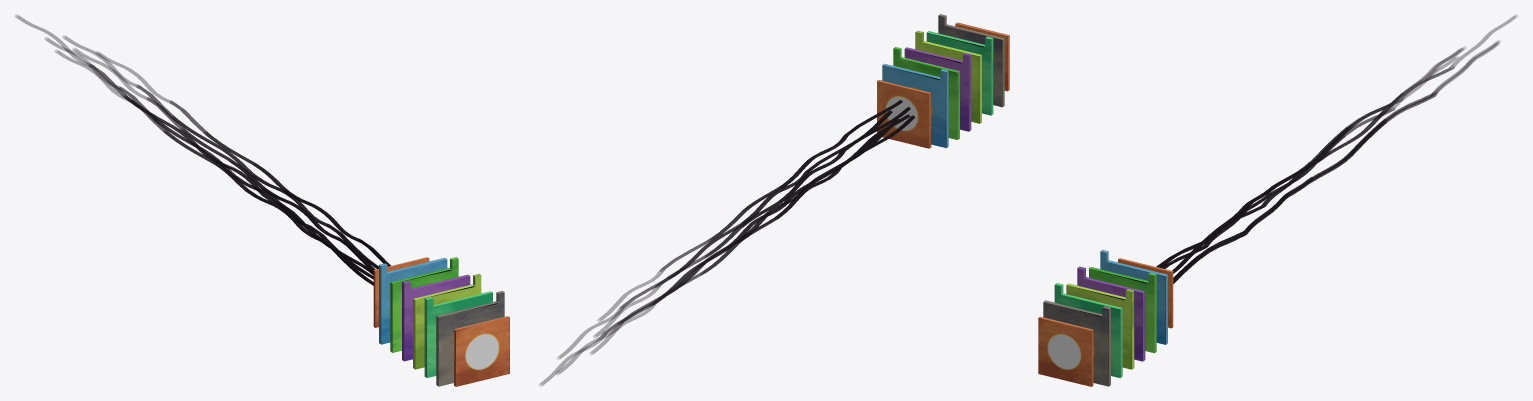
The model's file is contactcenter.obj.
The picture shows the model from 3 angles, left to right: view 1: azimuth 30°, elevation 25°; view 2: azimuth 150°, elevation 25°; view 3: azimuth 330°, elevation 25°; orthographic projection. The views are drawn at different scales.
Parts seen in each view (by area): view 1: Squares_pasted__pCube9, Squares_pasted__pCube3, pasted__pCube2_Squares, Squares_pasted__pCube5, Squares_pasted__pCube7, Squares_pasted__pCube6, Squares_pasted__pCube4, Squares_pasted__pCube10; view 2: Squares_pasted__pCube10, Squares_pasted__pCube5, Squares_pasted__pCube4, pasted__pCube2_Squares, Squares_pasted__pCube3, Squares_pasted__pCube7, Squares_pasted__pCube6, Squares_pasted__pCube9; view 3: Squares_pasted__pCube9, Squares_pasted__pCube3, Squares_pasted__pCube6, Squares_pasted__pCube7, pasted__pCube2_Squares, Squares_pasted__pCube5, Squares_pasted__pCube4, Squares_pasted__pCube10.
Part boxes in pixels (box(x1,y1,x2,y2)): Squares_pasted__pCube9: box(454, 316, 509, 386); Squares_pasted__pCube3: box(436, 291, 504, 386); pasted__pCube2_Squares: box(424, 291, 492, 377); Squares_pasted__pCube5: box(379, 257, 447, 344); Squares_pasted__pCube7: box(390, 257, 458, 352); Squares_pasted__pCube6: box(413, 274, 481, 369); Squares_pasted__pCube4: box(402, 274, 470, 361); Squares_pasted__pCube10: box(373, 257, 429, 327); Squares_pasted__pCube10: box(877, 80, 931, 148); Squares_pasted__pCube5: box(882, 63, 948, 147); Squares_pasted__pCube4: box(904, 47, 971, 131); pasted__pCube2_Squares: box(926, 31, 993, 115); Squares_pasted__pCube3: box(938, 14, 1004, 107); Squares_pasted__pCube7: box(893, 47, 959, 139); Squares_pasted__pCube6: box(915, 30, 981, 123); Squares_pasted__pCube9: box(955, 22, 1009, 91); Squares_pasted__pCube9: box(1038, 316, 1093, 386); Squares_pasted__pCube3: box(1043, 300, 1110, 386); Squares_pasted__pCube6: box(1066, 283, 1134, 369); Squares_pasted__pCube7: box(1089, 267, 1156, 352); pasted__pCube2_Squares: box(1054, 283, 1122, 378); Squares_pasted__pCube5: box(1100, 250, 1167, 344); Squares_pasted__pCube4: box(1077, 266, 1145, 361); Squares_pasted__pCube10: box(1118, 258, 1173, 328).
Bounding box in the file's own units: 1 × 1.13 × 12.07.
Materials: 8 (1 with a texture image).
